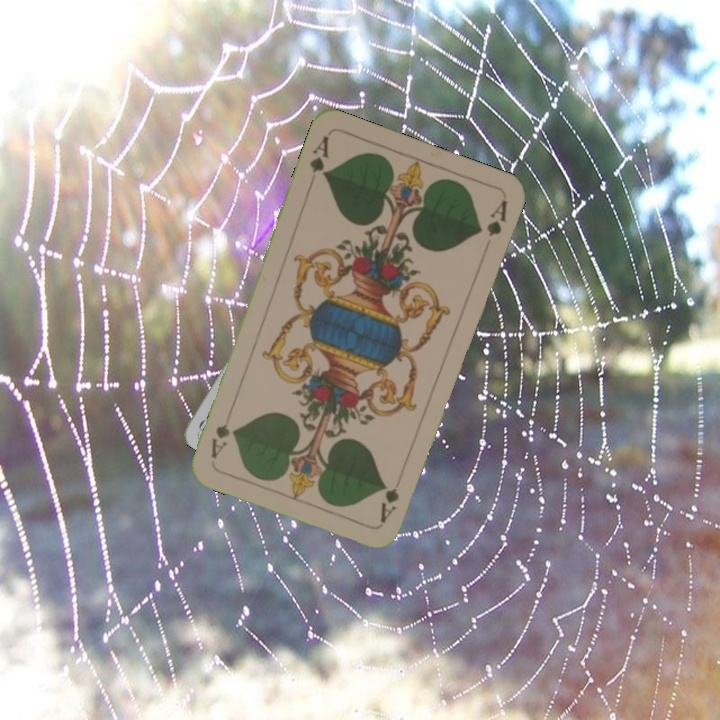GA: (305, 131, 332, 180), (376, 484, 402, 525)
